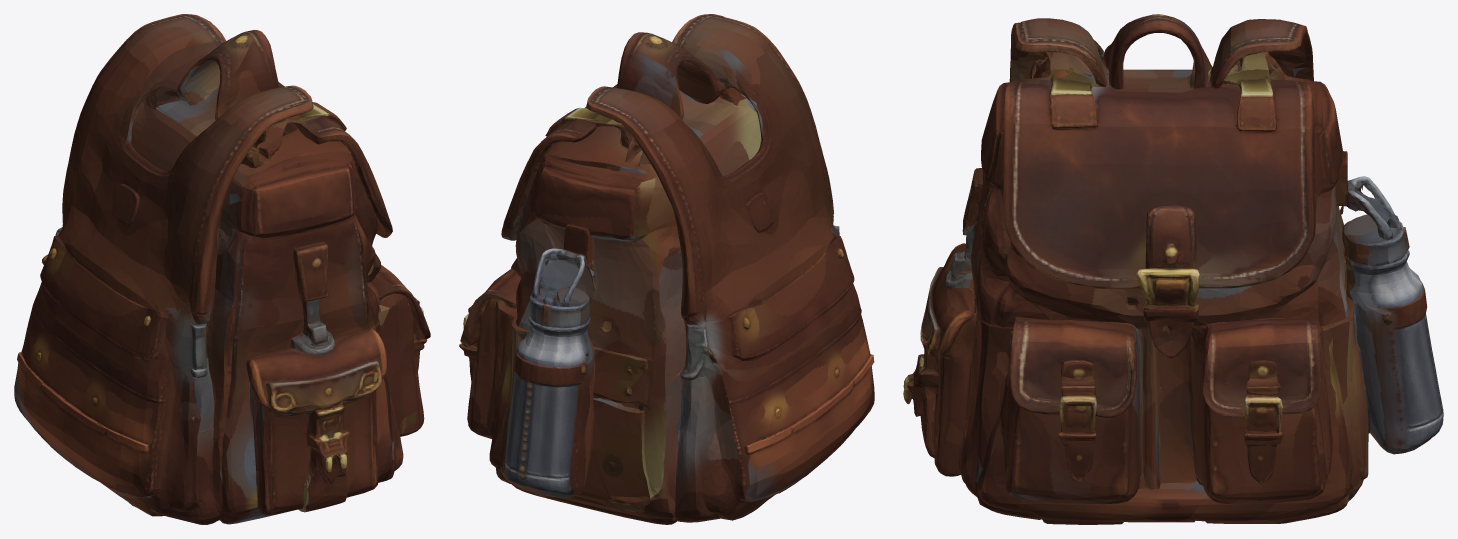
Rendered from mochila_2.glb.
3 renders of one model, left to right at view 1: azimuth 30°, elevation 25°; view 2: azimuth 150°, elevation 25°; view 3: azimuth 270°, elevation 25°, orthographic. The views are drawn at different scales.
Parts seen in each view (by area): view 1: geometry_0; view 2: geometry_0; view 3: geometry_0.
Part boxes in pixels (bbox=[...]): geometry_0: bbox=[14, 14, 430, 524]; geometry_0: bbox=[459, 14, 874, 524]; geometry_0: bbox=[903, 14, 1443, 524].
Bounding box in the file's own units: 0.7487 × 0.939 × 0.9818.
Materials: 1 (1 with a texture image).
